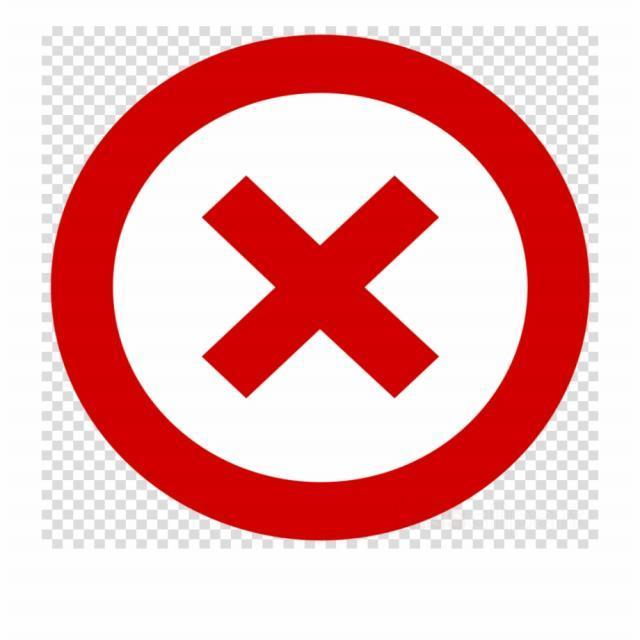Circle: (50, 34, 588, 540)
